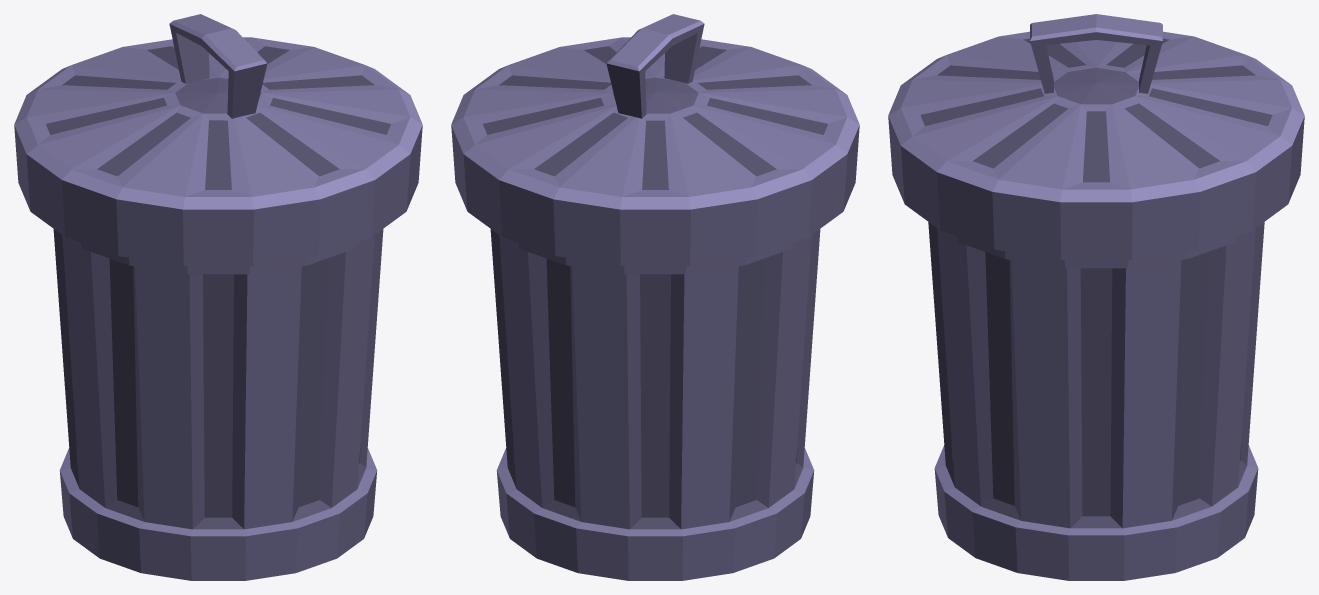
Rendered from Prop_Trashcan.fbx.
3 views of the same model, side by side, from view 1: azimuth 30°, elevation 25°; view 2: azimuth 150°, elevation 25°; view 3: azimuth 270°, elevation 25° (orthographic).
Visible parts, largest first — view 1: Model_Trashcan; view 2: Model_Trashcan; view 3: Model_Trashcan.
Boxes of the visible parts, <box> form: Model_Trashcan: <box>14,14,422,580</box>; Model_Trashcan: <box>451,14,859,580</box>; Model_Trashcan: <box>888,14,1304,580</box>.
Bounding box in the file's own units: 272 × 362 × 276.
